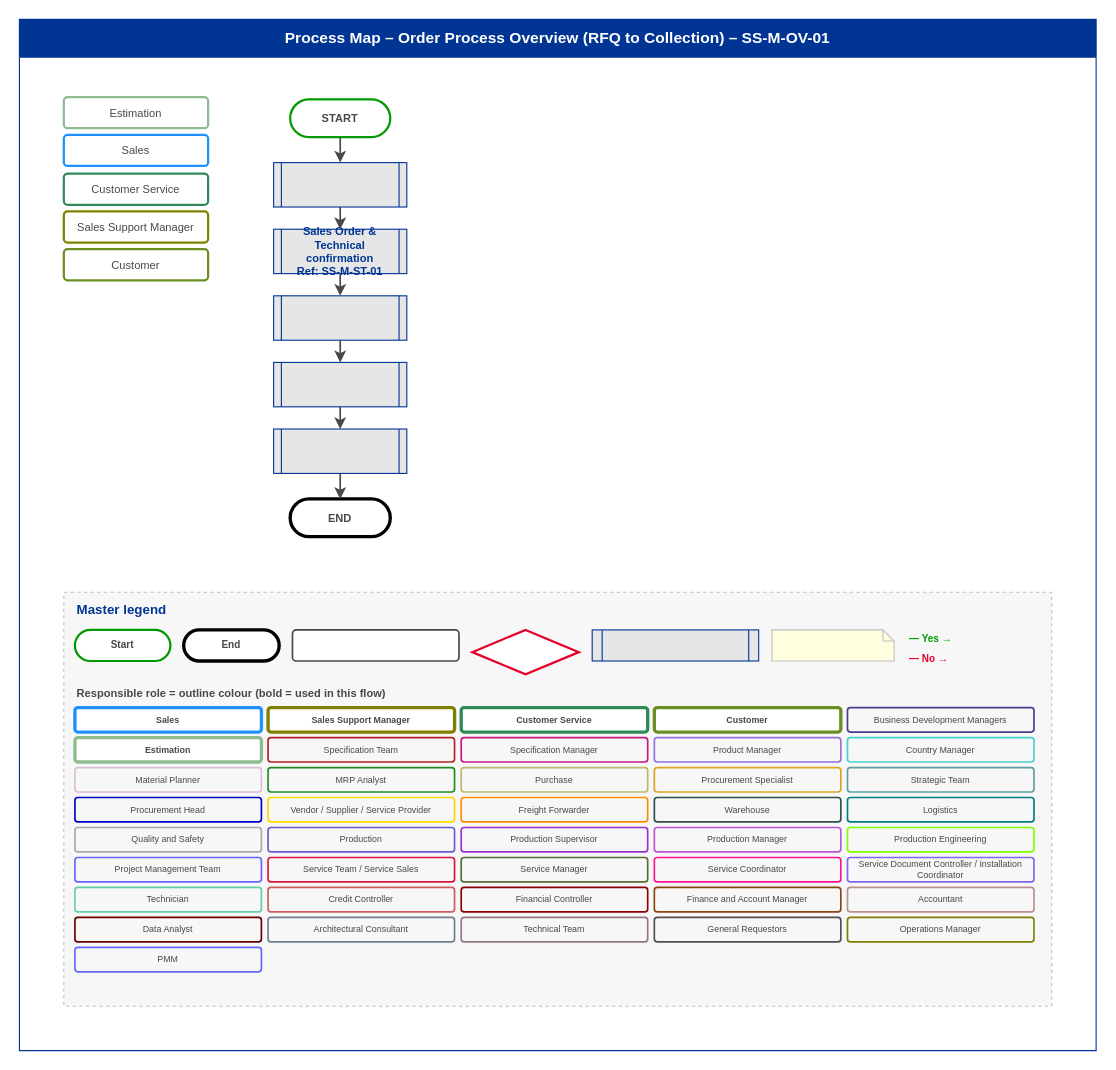
Some shapes in this 1116 by 1070 pixel diagram are drawn without their labels. The box of each missing label's shape, as (x1, y1, x2, y2) in pixels:
Activity (outline = role): (291, 629, 459, 661)
Decision: (471, 628, 579, 675)
Delivery & Deployment Ref: SS-M-DD-01: (273, 361, 407, 407)
Invoice & Collection Ref: SS-M-IC-01: (273, 428, 407, 473)
Linked process (Ref ID): (591, 629, 759, 661)
Note / checklist: (771, 629, 894, 661)
Request for Quotation Ref: SS-M-RQ-01: (273, 162, 407, 207)
Resource Management & planning Ref: SS-M-RP-01: (273, 295, 407, 340)
